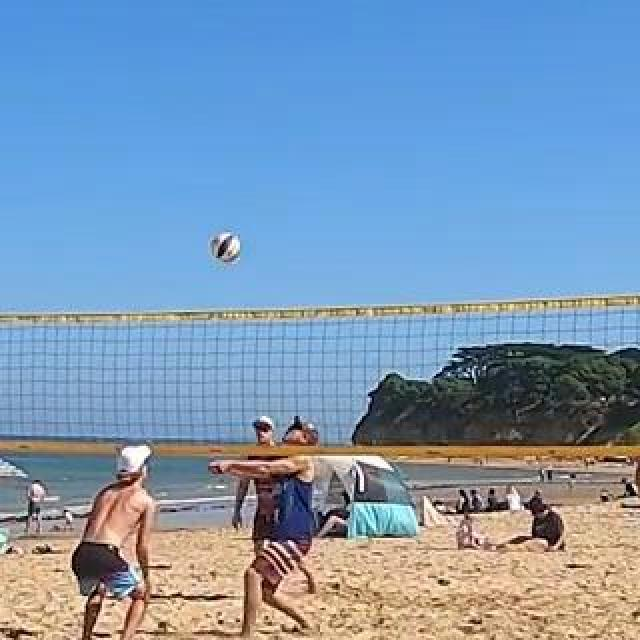volleyball: (212, 232, 242, 262)
